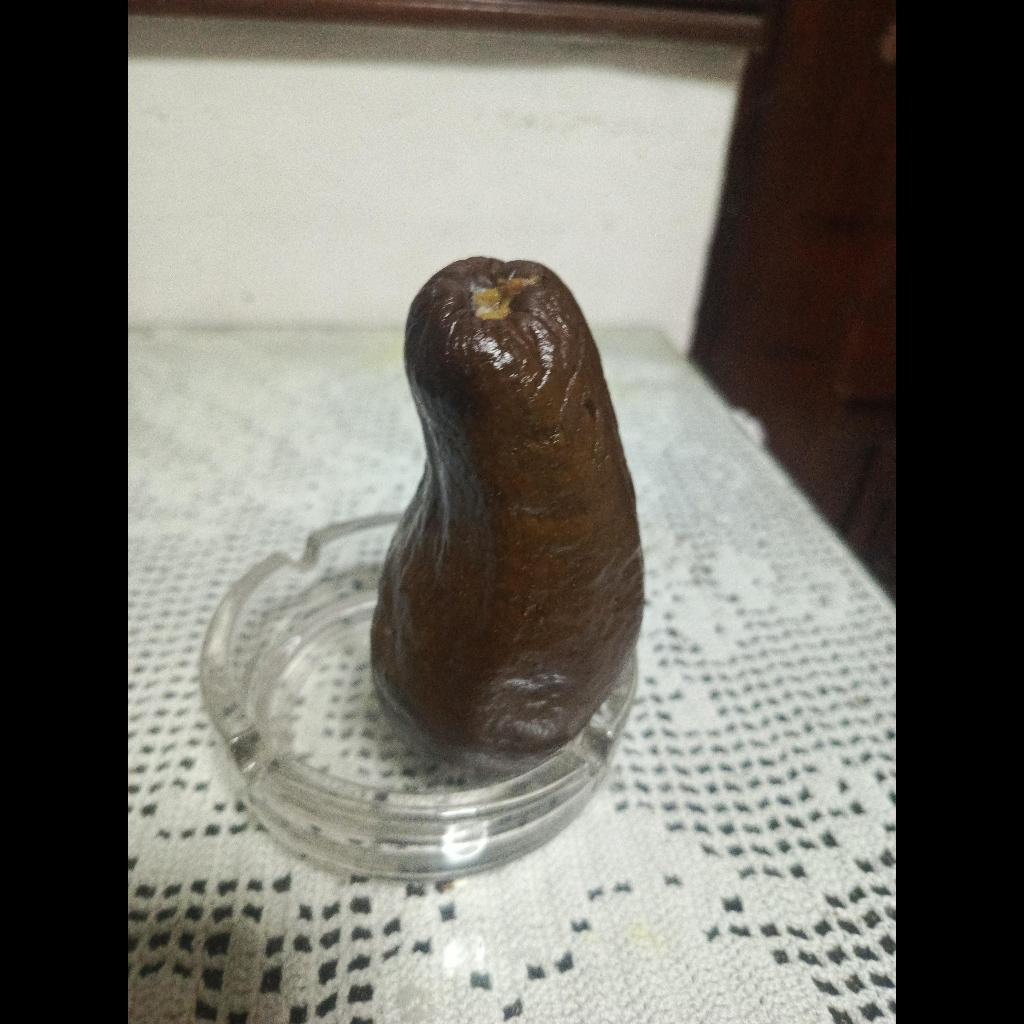stem end rot: (371, 257, 644, 761)
